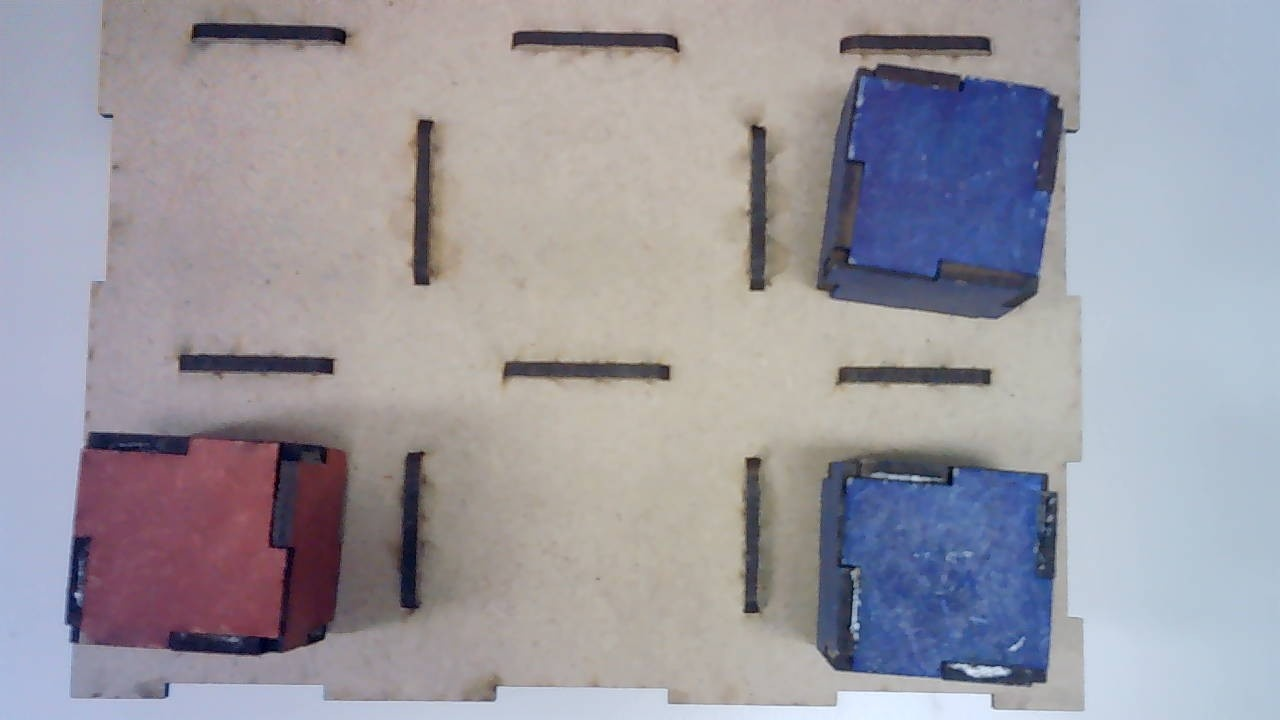blue box: (819, 66, 1061, 324), (820, 457, 1057, 691)
red box: (61, 430, 354, 654)
